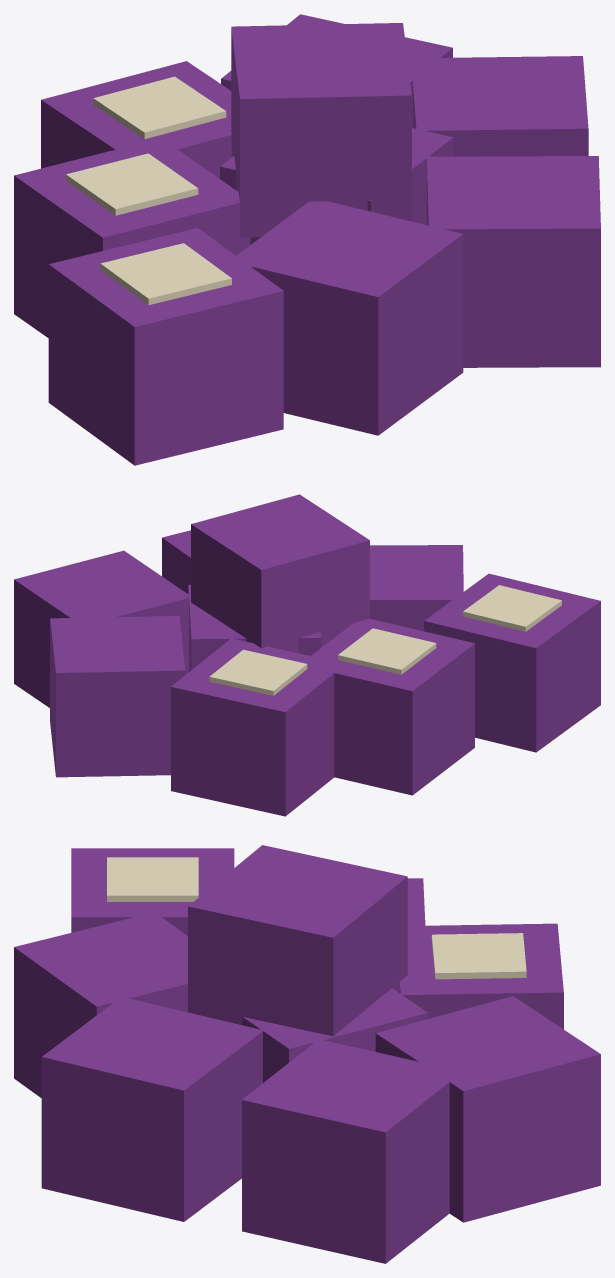
The model's file is FTF_Ingredient_Chopped_Eggplant.glb.
3 renders of one model, top to bottom at view 1: azimuth 30°, elevation 25°; view 2: azimuth 150°, elevation 25°; view 3: azimuth 270°, elevation 25°, orthographic. The views are drawn at different scales.
Visible parts, largest first — view 1: Eggplant_Piece_00, Eggplant_Accent_00; view 2: Eggplant_Piece_00, Eggplant_Accent_00; view 3: Eggplant_Piece_00, Eggplant_Accent_00.
Part boxes in pixels (bbox=[...]): Eggplant_Piece_00: bbox=[14, 14, 600, 465]; Eggplant_Accent_00: bbox=[66, 76, 231, 305]; Eggplant_Piece_00: bbox=[14, 494, 600, 816]; Eggplant_Accent_00: bbox=[209, 585, 561, 695]; Eggplant_Piece_00: bbox=[14, 845, 600, 1263]; Eggplant_Accent_00: bbox=[107, 857, 526, 979].
Size of the model in its own units: 0.7418 by 0.28 by 0.6474.
